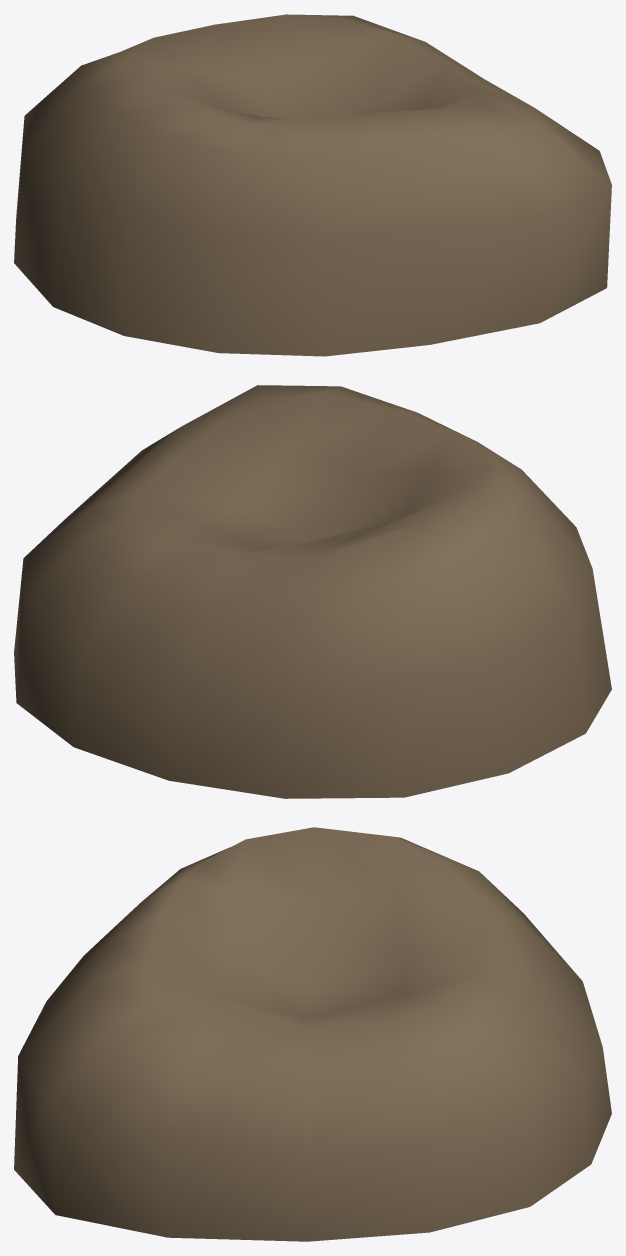
File: MudaVazia.fbx
The picture shows the model from 3 angles, top to bottom: view 1: azimuth 30°, elevation 25°; view 2: azimuth 150°, elevation 25°; view 3: azimuth 270°, elevation 25°; orthographic projection. The views are drawn at different scales.
Visible parts, largest first — view 1: pPlane3; view 2: pPlane3; view 3: pPlane3.
Part boxes in pixels (bbox=[...]): pPlane3: bbox=[14, 14, 611, 356]; pPlane3: bbox=[14, 385, 611, 798]; pPlane3: bbox=[14, 827, 611, 1241].
Size of the model in its own units: 51.26 by 19.98 by 50.78.
